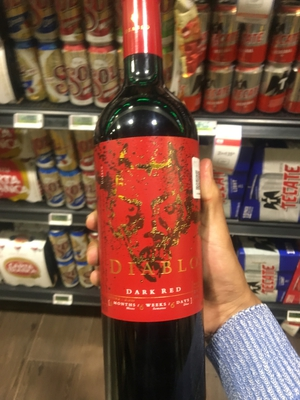diablo dark red: (89, 10, 217, 396)
